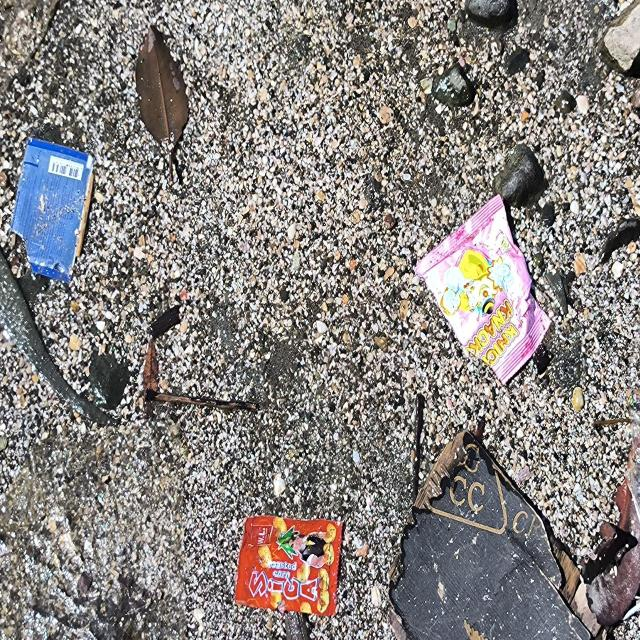plastic_waste: (415, 194, 554, 389), (11, 139, 95, 284), (236, 519, 344, 618)
